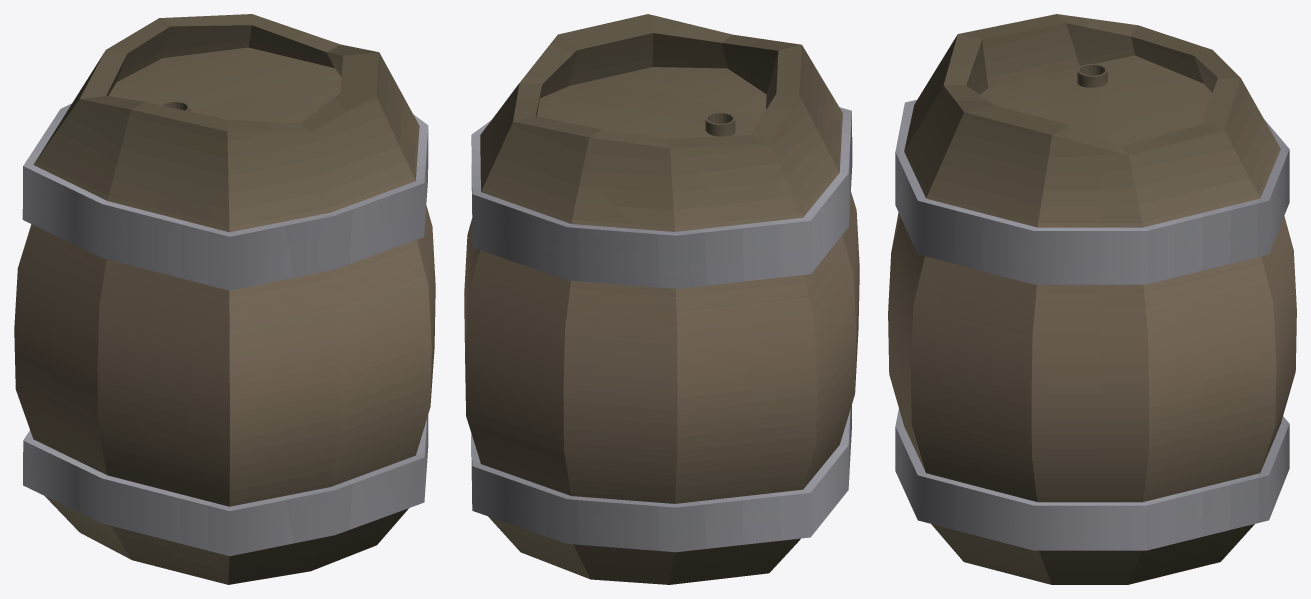
Rendered from Barril 1.fbx.
3 views of the same model, side by side, from view 1: azimuth 30°, elevation 25°; view 2: azimuth 150°, elevation 25°; view 3: azimuth 270°, elevation 25° (orthographic).
Visible parts, largest first — view 1: polySurface2; view 2: polySurface2; view 3: polySurface2.
Part boxes in pixels (x1,y1,x2,y2): polySurface2: [14, 14, 435, 584]; polySurface2: [464, 14, 859, 584]; polySurface2: [888, 14, 1296, 584].
Size of the model in its own units: 2.17 by 2.61 by 2.13.
